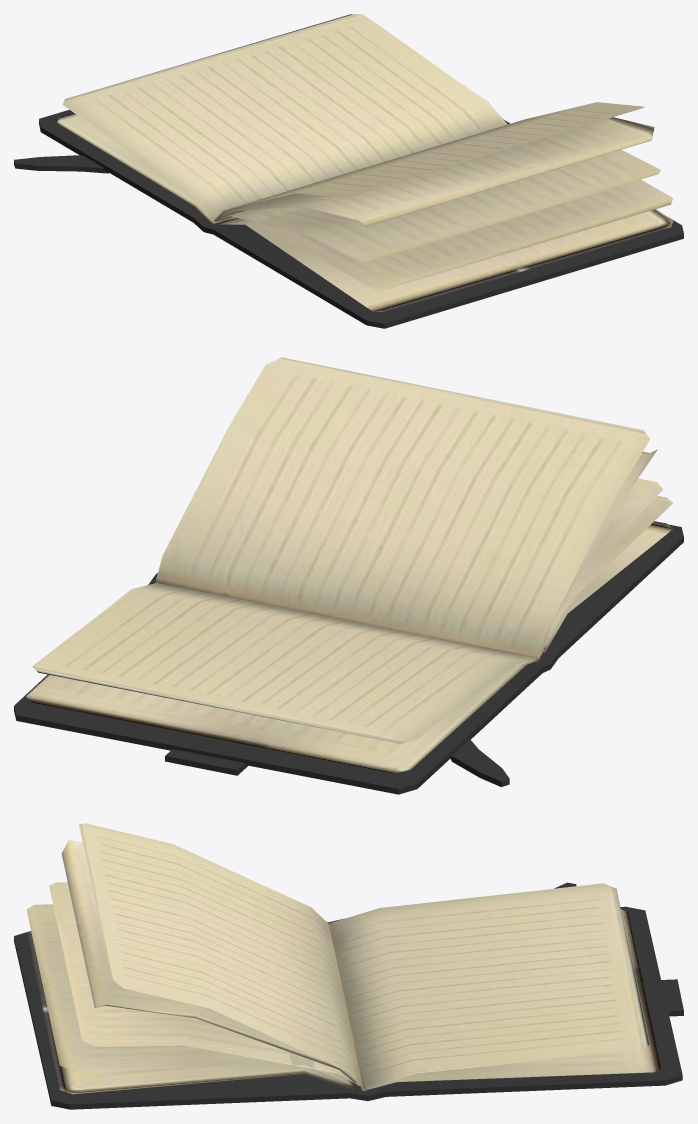
File: Diary.FBX
3 renders of one model, top to bottom at view 1: azimuth 30°, elevation 25°; view 2: azimuth 150°, elevation 25°; view 3: azimuth 270°, elevation 25°, orthographic. The views are drawn at different scales.
Parts seen in each view (by area): view 1: Box179; view 2: Box179; view 3: Box179.
Part boxes in pixels (left/top/right/bottom): Box179: left=14, top=14, right=683, bottom=328; Box179: left=14, top=357, right=683, bottom=794; Box179: left=14, top=823, right=683, bottom=1109.
Size of the model in its own units: 66.15 by 16.93 by 83.14.
1 material, 1 textured.
